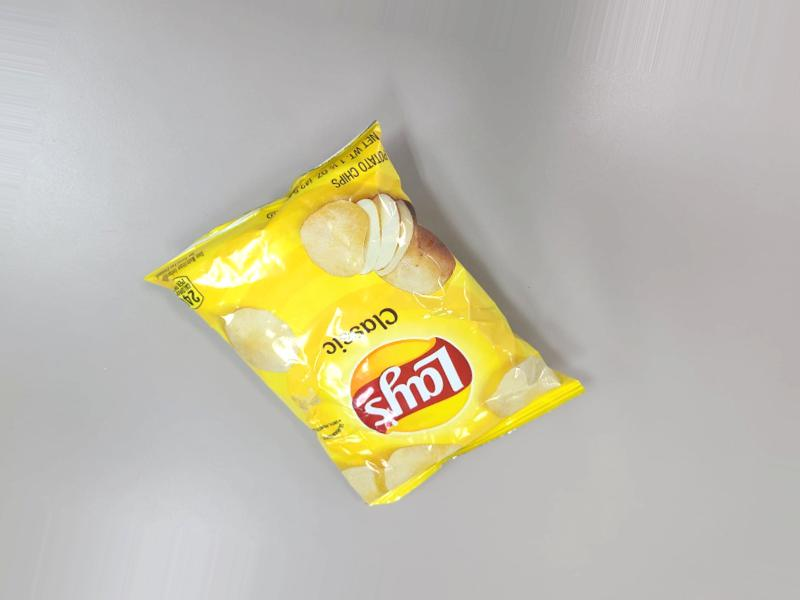lays: (229, 165, 543, 543)
